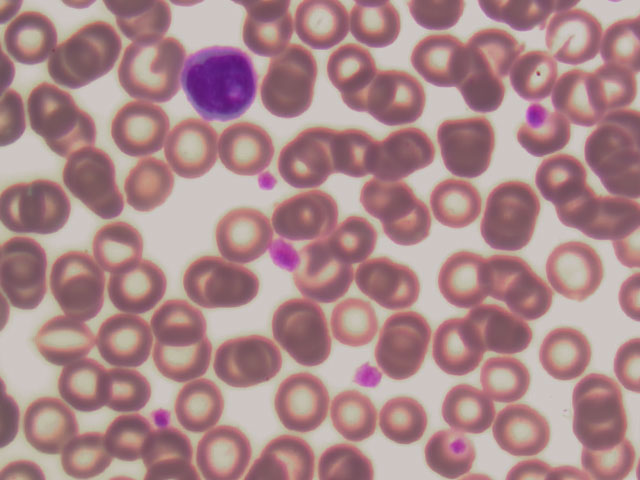Platelets: (353, 358, 388, 394), (266, 238, 298, 273), (522, 99, 550, 127), (249, 165, 275, 194), (151, 402, 175, 429)
RBC: (118, 38, 183, 98), (23, 80, 88, 140), (37, 104, 102, 164), (60, 148, 125, 208), (87, 216, 152, 276), (44, 253, 109, 313), (102, 255, 167, 315), (106, 256, 171, 316), (186, 253, 251, 313), (204, 204, 269, 264), (275, 184, 340, 244), (59, 19, 124, 79), (2, 5, 67, 65), (124, 157, 176, 214), (167, 120, 219, 177), (112, 101, 164, 158), (285, 133, 337, 187), (221, 123, 273, 177), (339, 125, 391, 179), (358, 173, 410, 227), (381, 189, 433, 243), (430, 181, 482, 235), (439, 118, 491, 172), (378, 72, 430, 126), (327, 43, 379, 97), (350, 1, 402, 55), (264, 72, 316, 126), (271, 37, 323, 91), (246, 5, 298, 59), (416, 34, 468, 88), (457, 65, 509, 119), (469, 23, 521, 77), (507, 45, 559, 99), (549, 11, 601, 65), (554, 71, 606, 125), (580, 61, 632, 115), (539, 147, 591, 201), (487, 174, 539, 228), (480, 202, 532, 256), (436, 255, 488, 309), (481, 243, 533, 297), (509, 271, 561, 325), (549, 244, 601, 298), (489, 311, 541, 365), (467, 299, 519, 353), (433, 318, 485, 372), (382, 331, 434, 385), (387, 304, 439, 358), (360, 253, 412, 307), (330, 295, 382, 349), (275, 298, 327, 352), (301, 247, 353, 301), (332, 212, 384, 266), (236, 332, 288, 386), (205, 337, 257, 391), (147, 332, 199, 386), (157, 297, 209, 351), (101, 314, 153, 368), (36, 312, 88, 366), (32, 171, 84, 225), (1, 250, 53, 304), (62, 357, 114, 411), (101, 355, 153, 409), (105, 410, 157, 464), (62, 424, 114, 478), (26, 395, 78, 449), (194, 426, 246, 480), (179, 378, 231, 432), (268, 378, 320, 432), (329, 389, 381, 443), (383, 394, 435, 448), (441, 383, 493, 437), (423, 425, 475, 479), (480, 352, 532, 406), (496, 402, 548, 456), (574, 400, 626, 454), (570, 369, 622, 423), (544, 329, 596, 383), (265, 426, 317, 480), (588, 188, 640, 242), (555, 185, 607, 239), (588, 125, 640, 179), (297, 1, 349, 54), (1, 183, 52, 237)
WBC: (179, 46, 261, 120)
